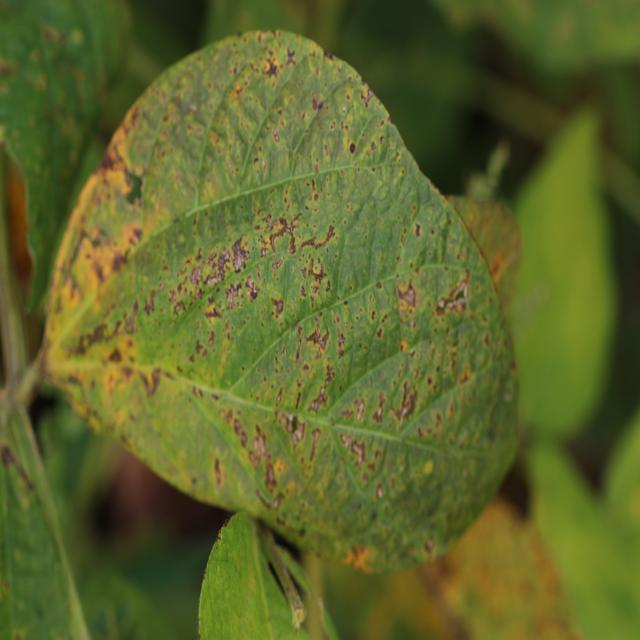Bacterial_Blight: (5, 166, 33, 280), (393, 267, 423, 318), (306, 364, 336, 415), (436, 272, 471, 315), (96, 137, 133, 177), (393, 379, 419, 430), (269, 215, 300, 254), (282, 410, 305, 451), (344, 545, 372, 573), (251, 428, 270, 467), (109, 244, 133, 274), (307, 257, 329, 289), (309, 225, 337, 250), (142, 367, 162, 397), (289, 592, 306, 627), (202, 298, 224, 323), (349, 438, 367, 468), (142, 290, 158, 319), (262, 54, 281, 78), (489, 251, 505, 279), (372, 394, 386, 423), (293, 325, 303, 365), (245, 277, 260, 303), (1, 444, 16, 470), (213, 456, 224, 490), (232, 248, 247, 272), (189, 265, 203, 289), (194, 337, 209, 359), (360, 87, 375, 108), (271, 296, 285, 318), (108, 346, 123, 364), (355, 398, 366, 422), (236, 424, 248, 446), (258, 238, 270, 259), (272, 491, 285, 510), (274, 457, 287, 476), (70, 28, 83, 46), (458, 368, 471, 385), (337, 332, 346, 356), (285, 47, 296, 66), (424, 536, 435, 555), (422, 458, 434, 475), (1, 577, 10, 597), (275, 387, 283, 408), (312, 97, 323, 112), (504, 386, 514, 402), (399, 339, 410, 353), (173, 301, 183, 316), (375, 483, 384, 499), (295, 391, 302, 411), (437, 297, 446, 310), (414, 223, 422, 237), (13, 629, 23, 640), (272, 129, 280, 142), (216, 529, 223, 542), (349, 142, 356, 153), (376, 327, 383, 338), (370, 511, 377, 522), (371, 141, 377, 151), (376, 281, 382, 290), (371, 311, 376, 321), (342, 105, 347, 113)
Soybean: (44, 31, 518, 640)
